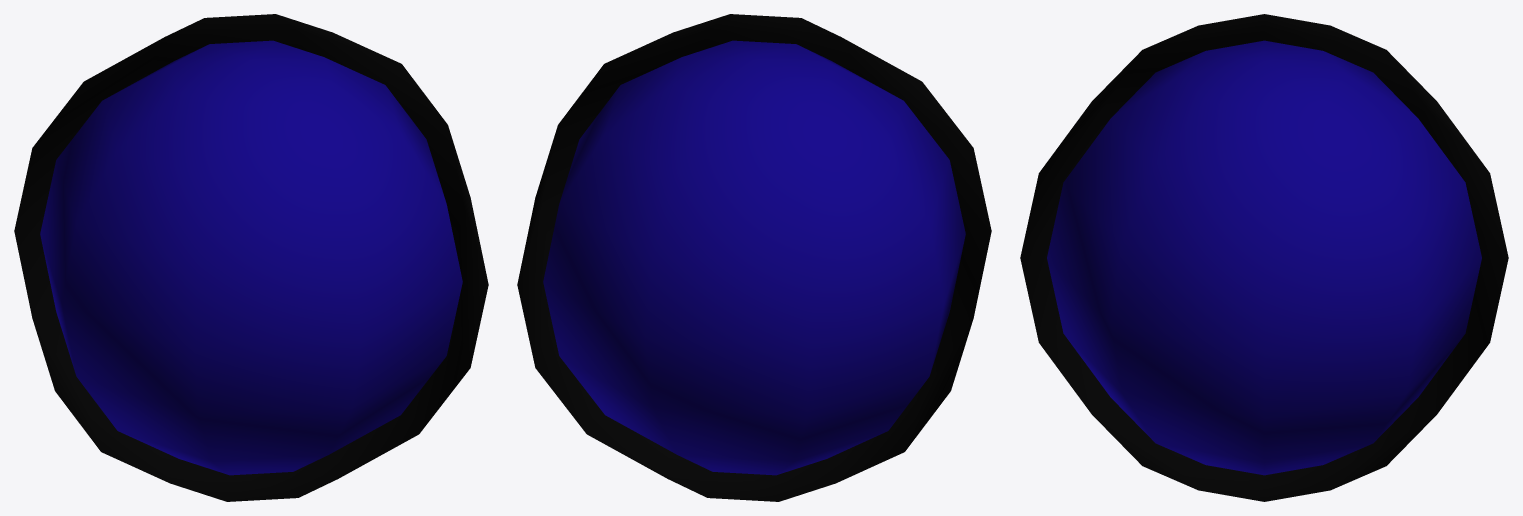
The model's file is Playerjump.glb.
The picture shows the model from 3 angles, left to right: view 1: azimuth 30°, elevation 25°; view 2: azimuth 150°, elevation 25°; view 3: azimuth 270°, elevation 25°; orthographic projection.
Parts seen in each view (by area): view 1: Sphere; view 2: Sphere; view 3: Sphere.
Part boxes in pixels (x1,y1,x2,y2): Sphere: [14, 14, 488, 501]; Sphere: [517, 14, 991, 501]; Sphere: [1020, 14, 1508, 501].
Size of the model in its own units: 2.24 by 2.24 by 2.24.
1 material, 1 textured.
